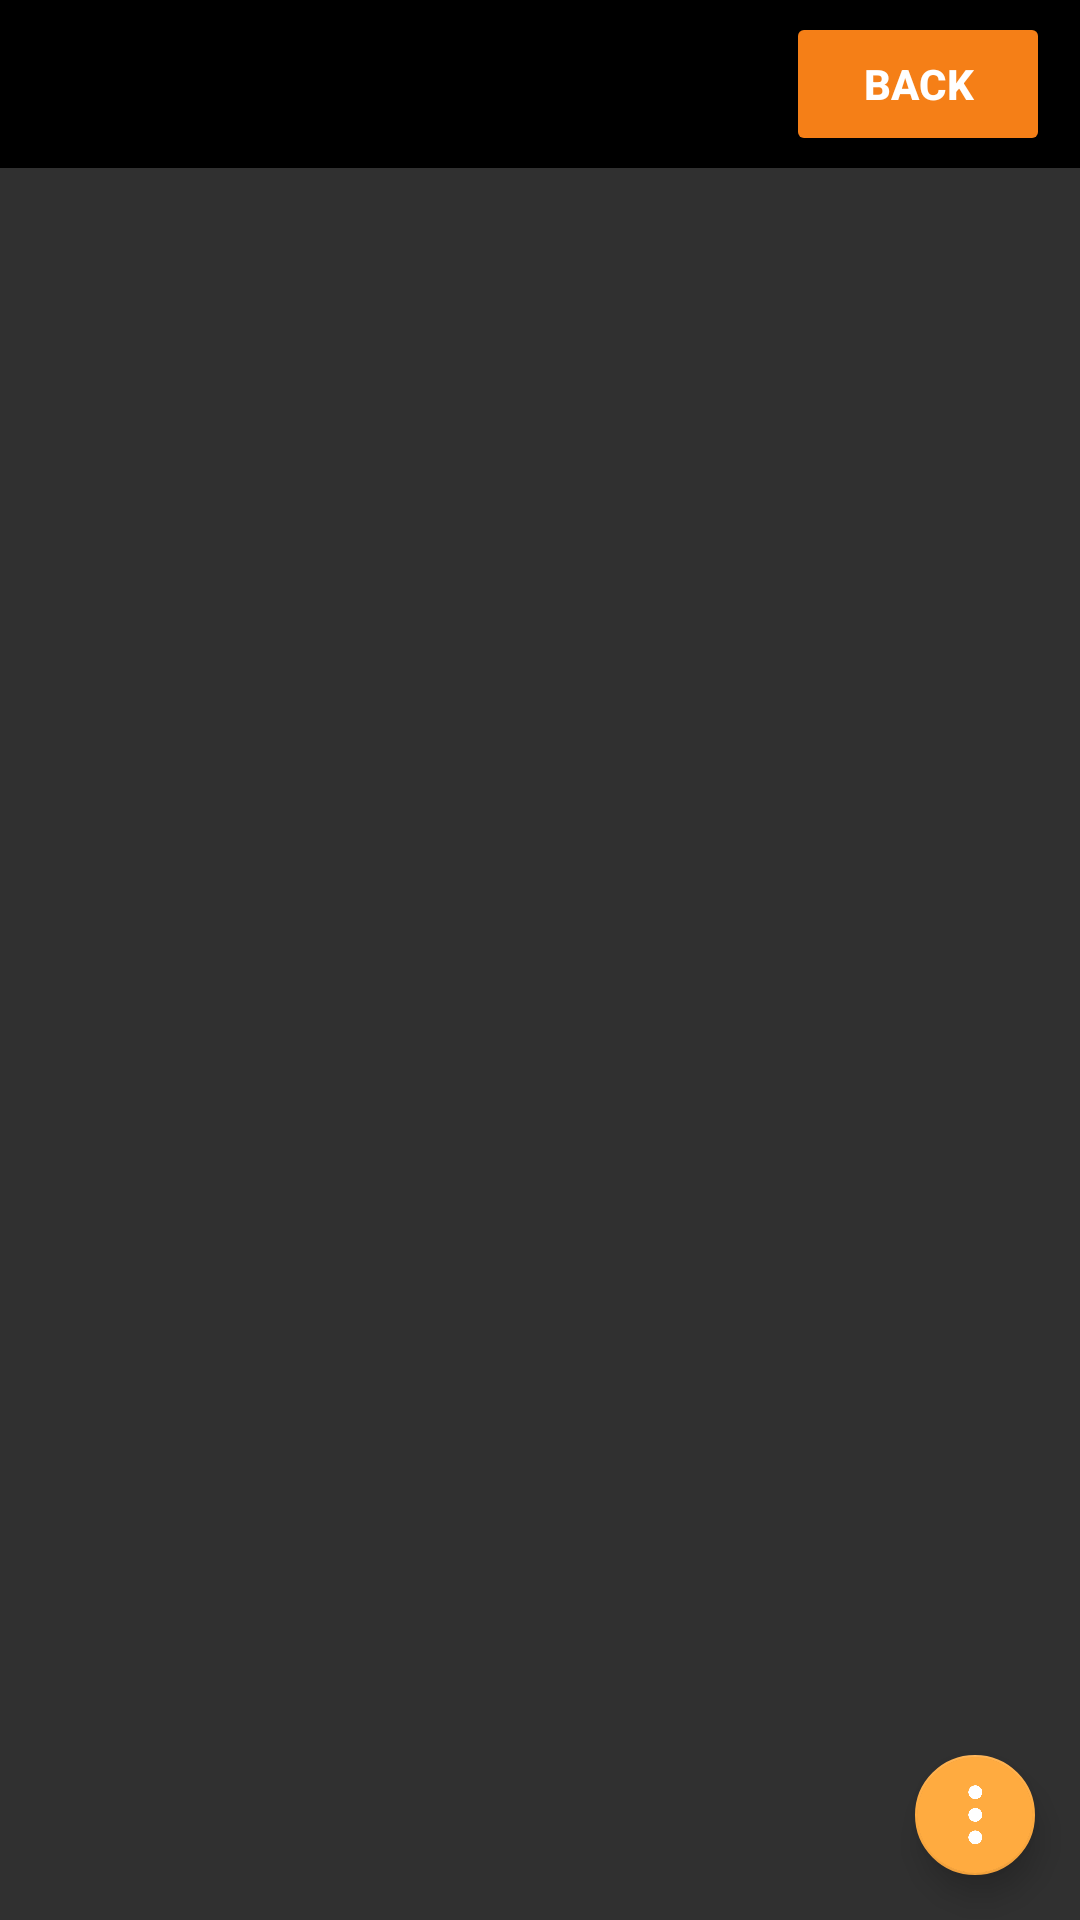

Icon click points for this 1080px x 1920px phone screenshot, format [x,y]:
dots: [975,1815]
